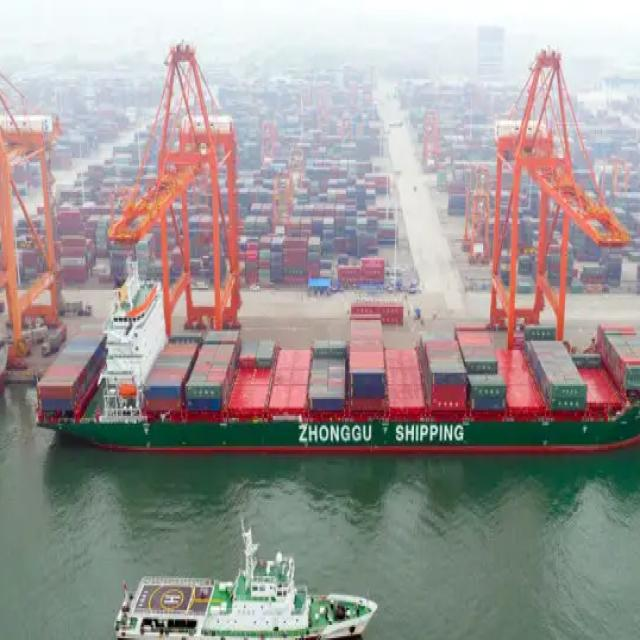cargoship: (33, 258, 640, 459)
passenger ship: (109, 532, 377, 640)
